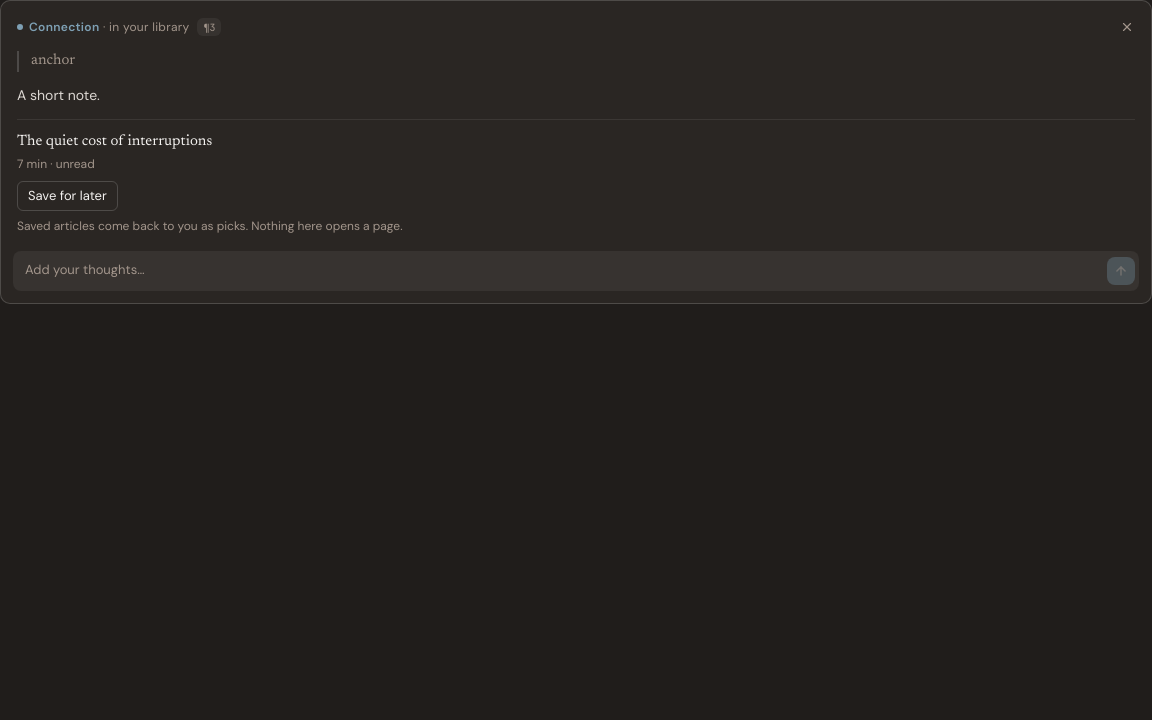
Test case: a connection to a library article › says so in place when saving fails
The image size is (1152, 720).
Click the button "Save for later": {"x": 67, "y": 196} [17,181,118,210]
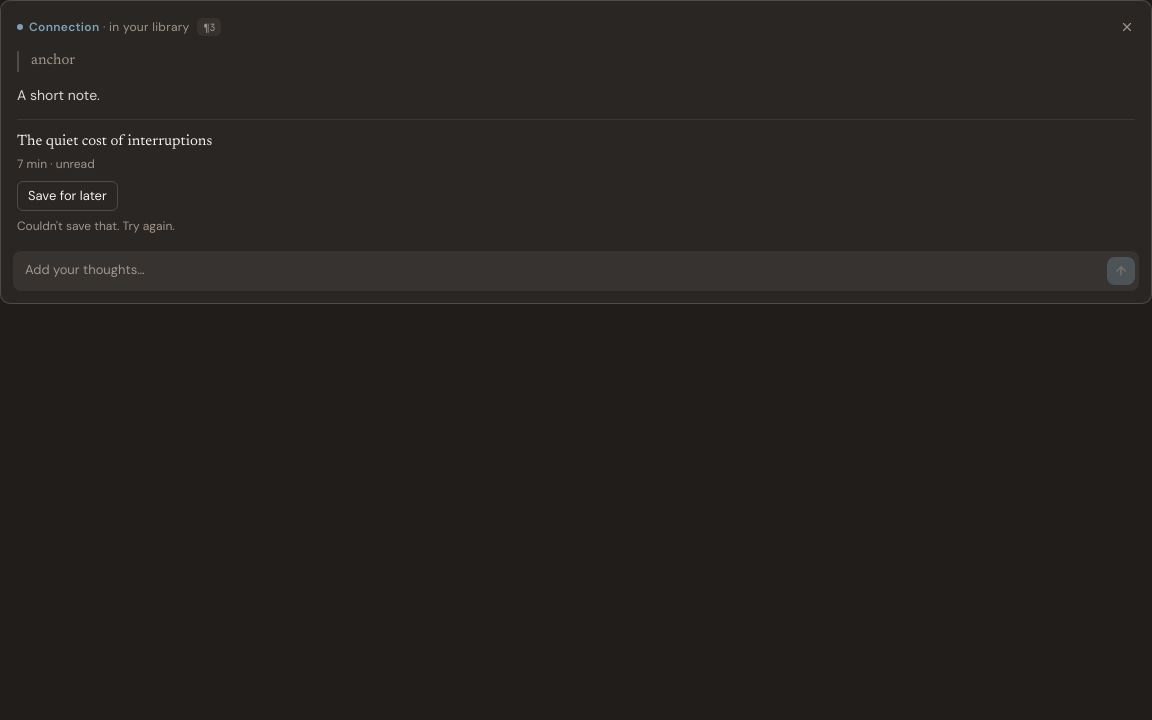
Expected: the message "Couldn't save that. Try again." is shown, [17,218,175,234]
